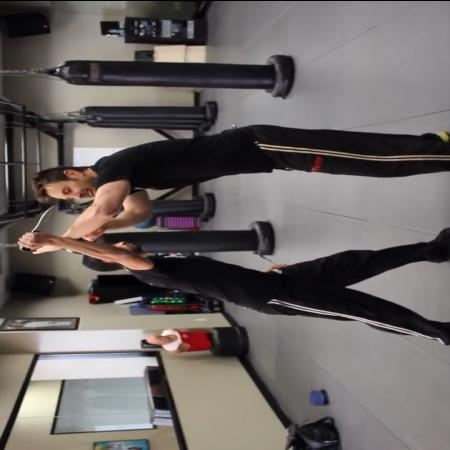long weapon: (15, 202, 61, 252)
